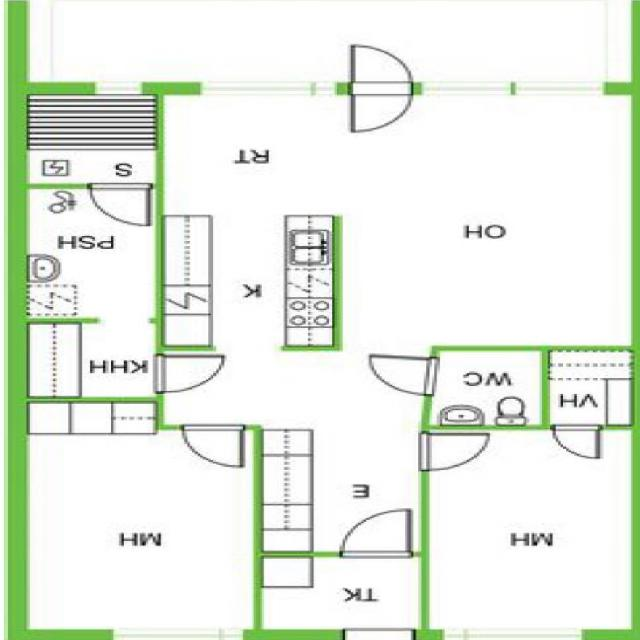door: (341, 510, 411, 557), (352, 45, 412, 95), (352, 82, 412, 132), (421, 434, 490, 471), (183, 426, 243, 468), (90, 184, 149, 225), (363, 358, 429, 394), (156, 357, 223, 392), (555, 426, 599, 458)
